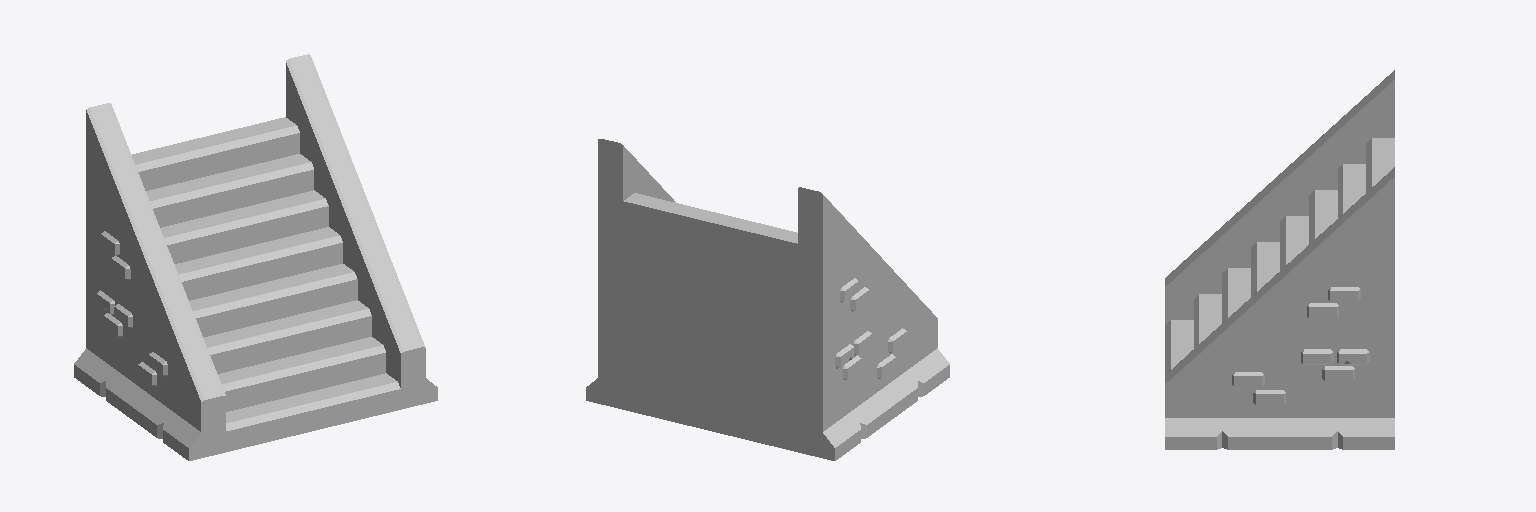
File: stairs.obj
3 views of the same model, side by side, from view 1: azimuth 30°, elevation 25°; view 2: azimuth 150°, elevation 25°; view 3: azimuth 270°, elevation 25° (orthographic).
Visible parts, largest first — view 1: stairs_Cube.13687; view 2: stairs_Cube.13687; view 3: stairs_Cube.13687.
Boxes of the visible parts, x1,y1,x2,y2 form: stairs_Cube.13687: [74, 54, 437, 460]; stairs_Cube.13687: [586, 139, 949, 460]; stairs_Cube.13687: [1165, 70, 1394, 449].
Bounding box in the file's own units: 5 × 5.1 × 4.